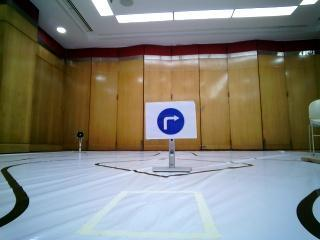right: (145, 102, 197, 138)
